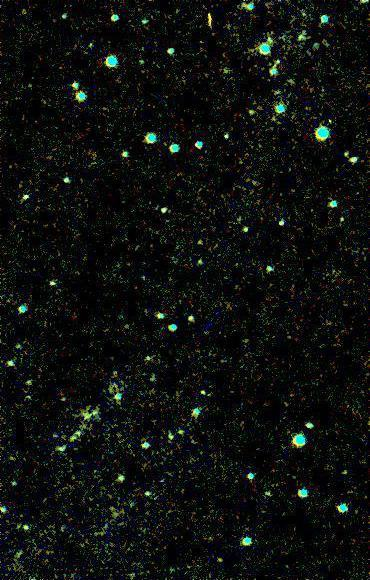star: (204, 544, 234, 574)
